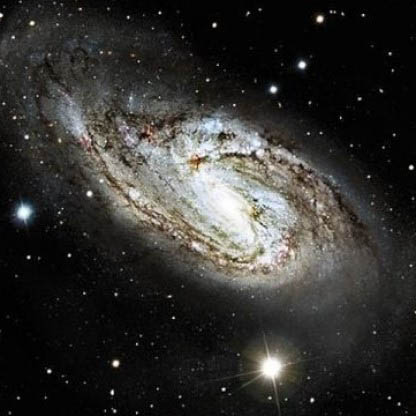Messier 66: (6, 17, 406, 401)
